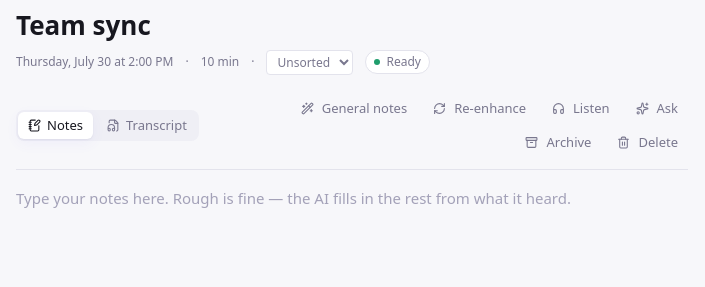
it: Listen › refuses plainly while that recording is still capturing
Click the button "Listen": (581, 108) [542, 94, 620, 122]
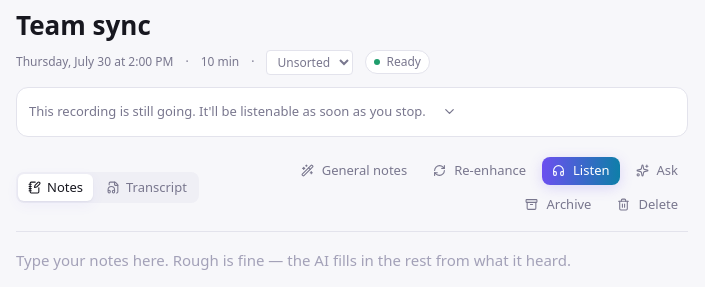
Expected: the text "This recording is still going. It'll be listenable as soon as you stop." is shown, [29, 102, 426, 121]
